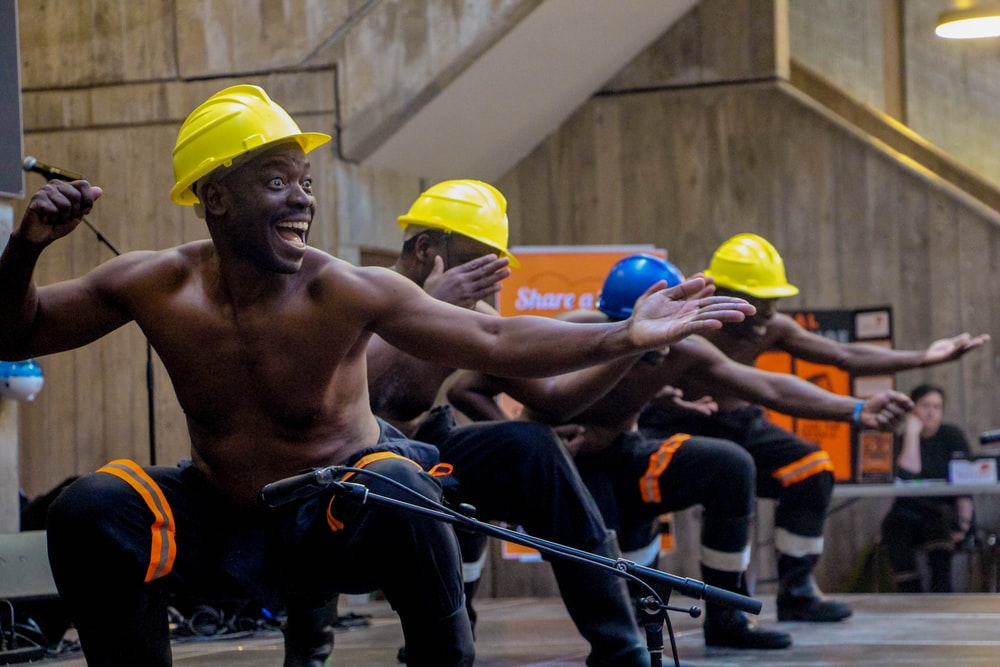Helmet: (166, 81, 348, 205), (397, 177, 529, 264), (703, 230, 803, 302), (598, 251, 688, 317)
